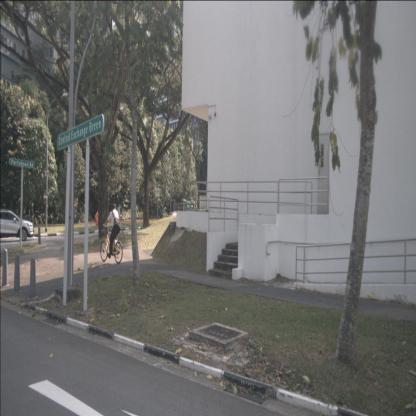human-pedestrian-adult: (28, 202, 34, 228)
vehicle-bicycle: (100, 204, 123, 264)
vehicle-car: (0, 210, 34, 242)
